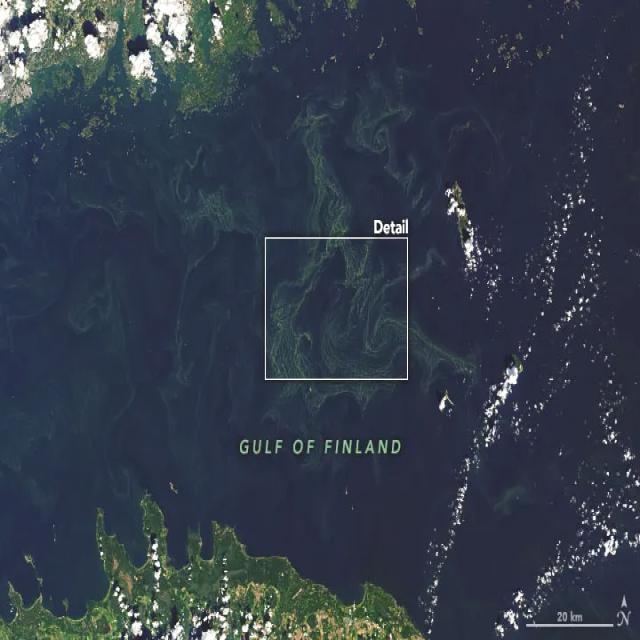algal: (261, 176, 421, 414)
